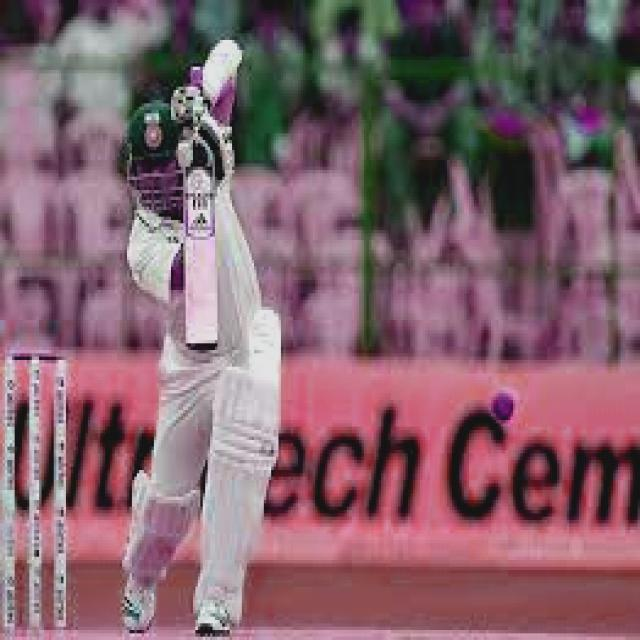toe: (186, 310, 221, 354)
